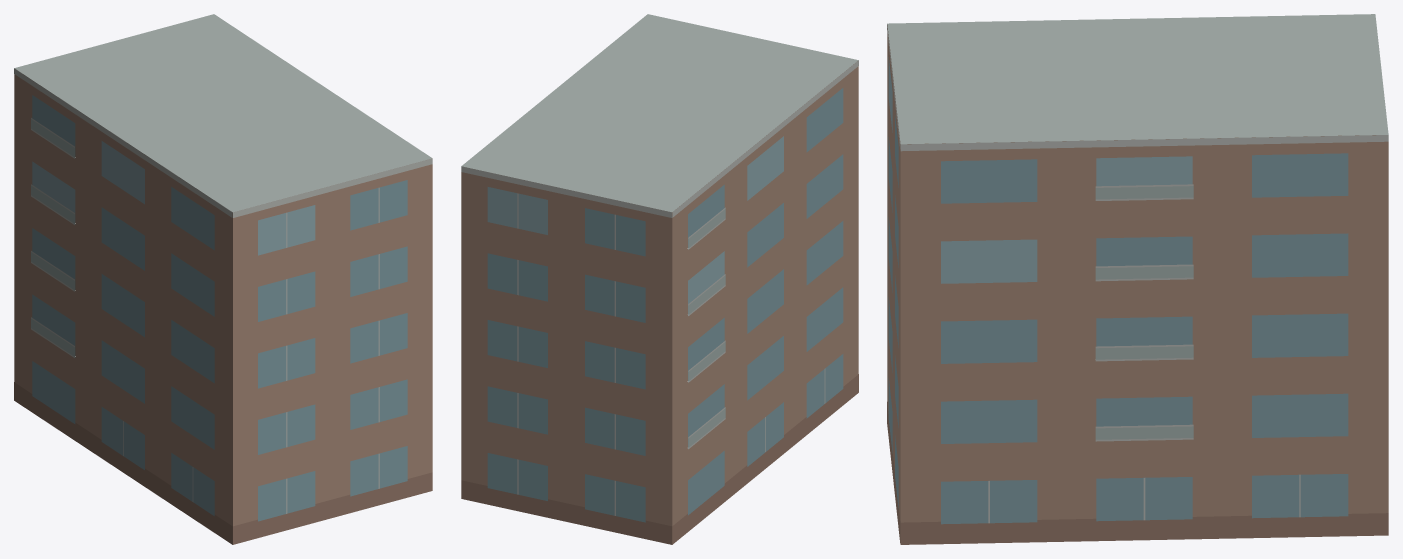
File: survey-upis-32618968.glb
The picture shows the model from 3 angles, left to right: view 1: azimuth 30°, elevation 25°; view 2: azimuth 150°, elevation 25°; view 3: azimuth 270°, elevation 25°; orthographic projection. The views are drawn at different scales.
Visible parts, largest first — view 1: survey-upis-32618968.tmp; view 2: survey-upis-32618968.tmp; view 3: survey-upis-32618968.tmp.
Boxes of the visible parts, x1,y1,x2,y2 form: survey-upis-32618968.tmp: (14,14,432,544); survey-upis-32618968.tmp: (461,14,858,544); survey-upis-32618968.tmp: (887,14,1388,544).
Size of the model in its own units: 9.84 by 14.1 by 16.
